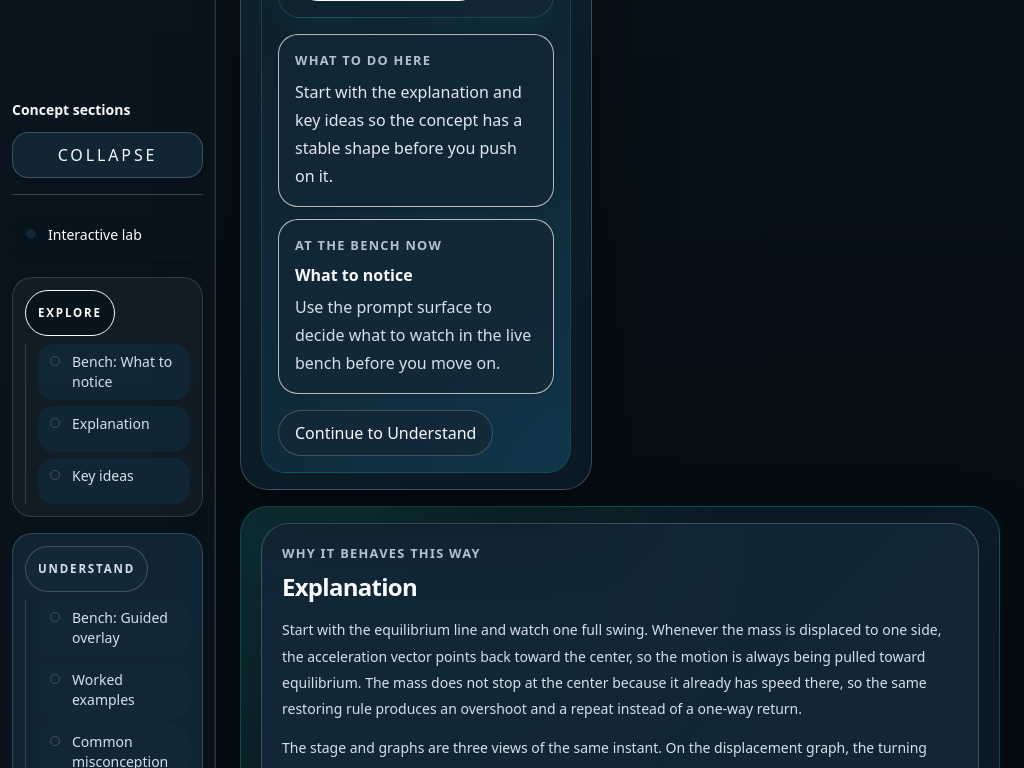
Test case: ConceptPagePhasedSections › advances and returns through the flow with next and previous controls while keeping the live lab mounted
The width and height of the screenshot is (1024, 768).
(page scrolled)
Click the button with test id "concept-learning-phase-next": (386, 433) [278,410,493,456]
(page scrolled)
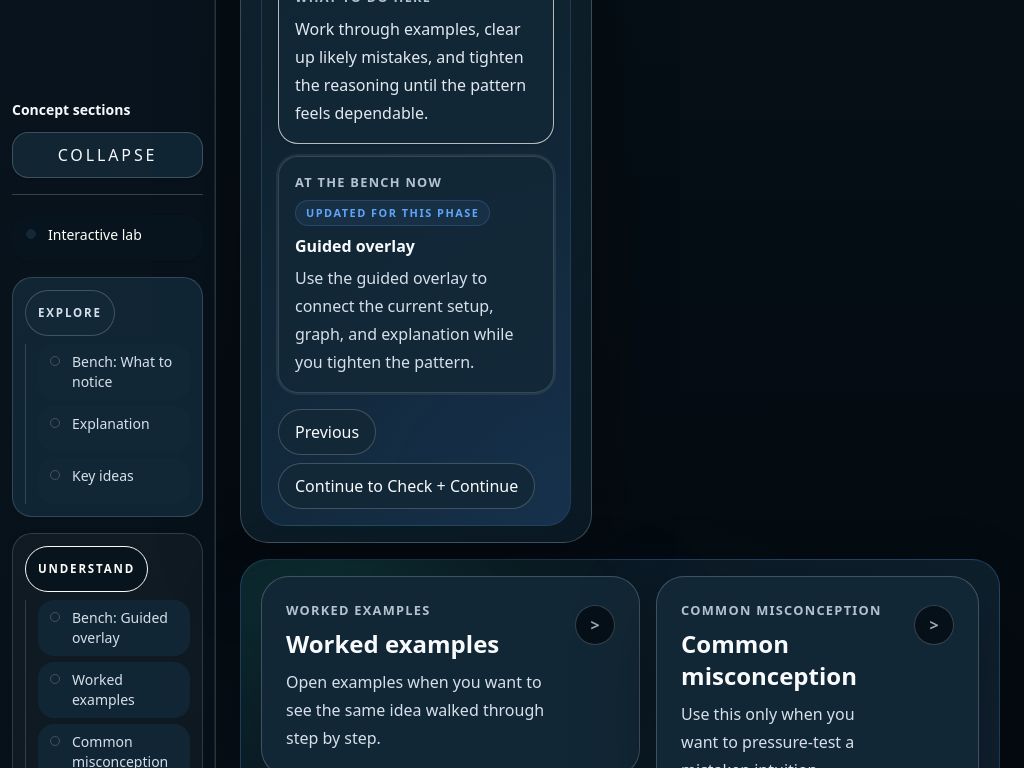
Click the button with test id "concept-learning-phase-previous": (327, 432) [278,409,376,455]
(page scrolled)
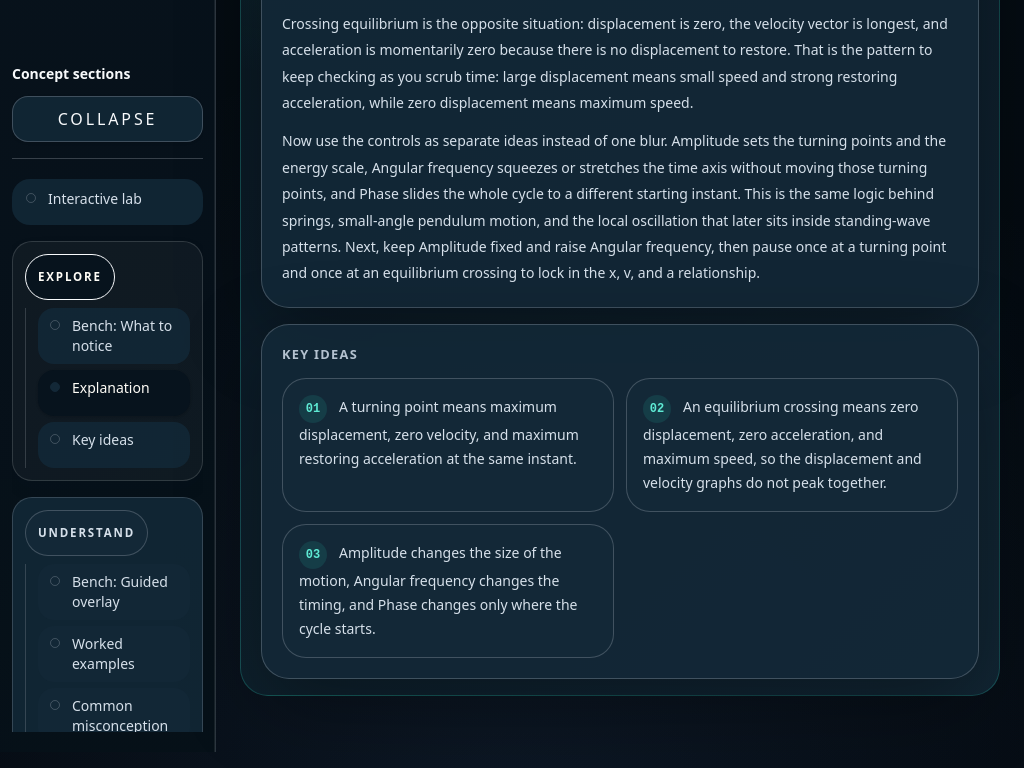
Expected: the text "A turning point means maximum displacement, zero velocity, and maximum restoring acceleration at the same instant." is shown, [299,397,579,468]
